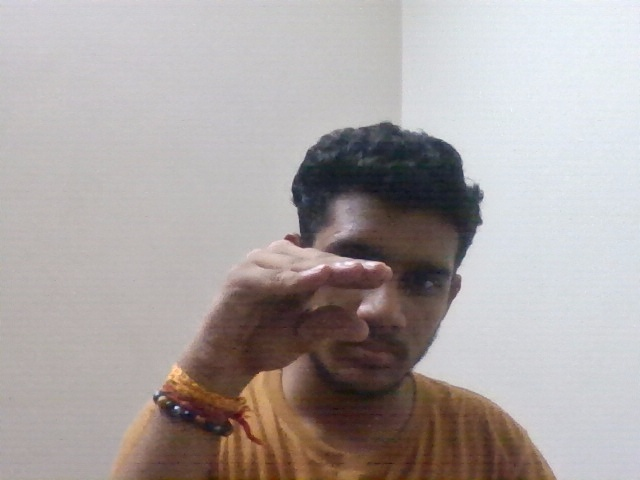no: (196, 235, 415, 391)
